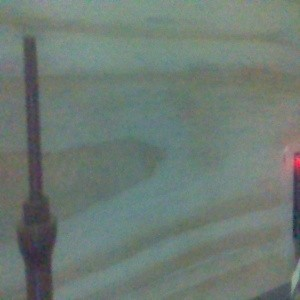obeng: (14, 37, 58, 300)
